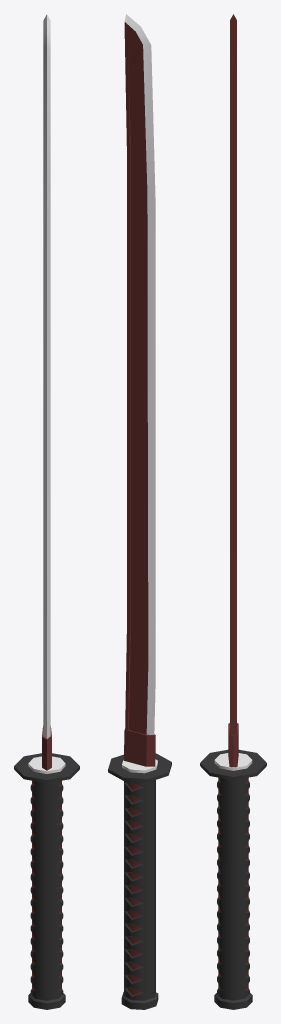
The model's file is KatsunesiSword.fbx.
3 views of the same model, side by side, from view 1: azimuth 90°, elevation 25°; view 2: azimuth 150°, elevation 25°; view 3: azimuth 270°, elevation 25° (orthographic).
Parts seen in each view (by area): view 1: KatsunesiSword; view 2: KatsunesiSword; view 3: KatsunesiSword.
Part boxes in pixels (x1,y1,x2,y2): KatsunesiSword: [14, 14, 79, 1009]; KatsunesiSword: [108, 14, 171, 1009]; KatsunesiSword: [200, 14, 266, 1009].
Bounding box in the file's own units: 10.8 × 178 × 10.8.
